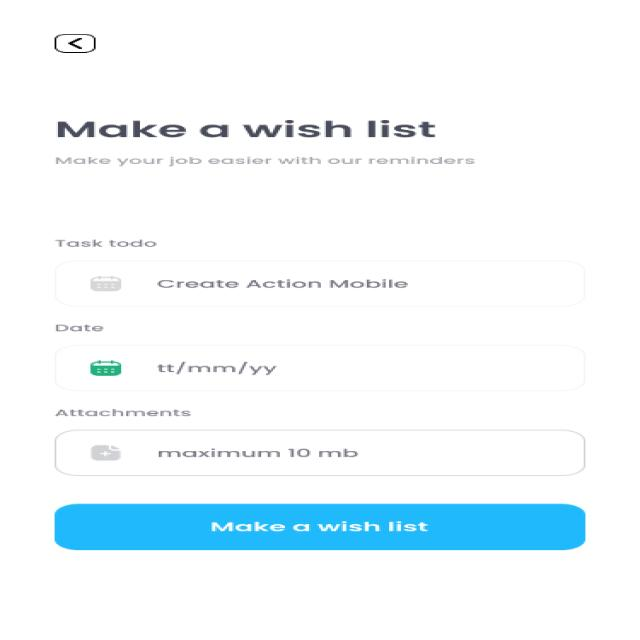button: (24, 497, 626, 562)
column: (6, 70, 635, 640)
icon button: (32, 22, 125, 64)
input: (35, 332, 607, 402), (32, 418, 616, 485), (38, 248, 607, 316)
text: (21, 88, 582, 183)
